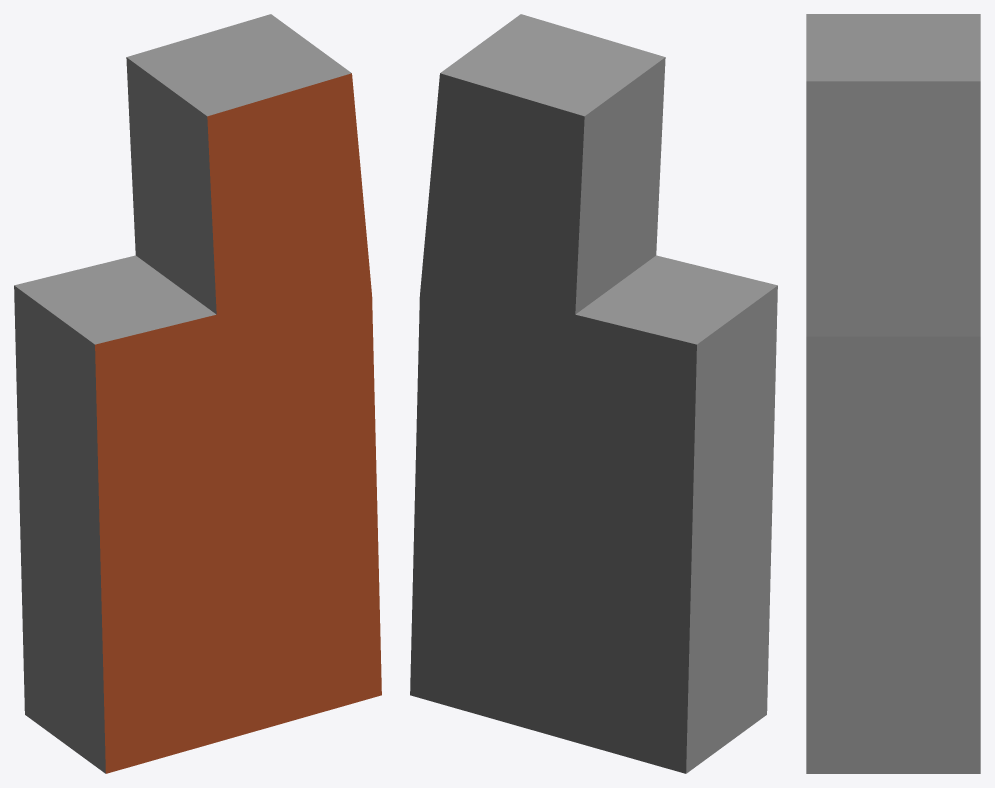
The model's file is construction_0644_assumed_A_Casa_h6m.obj.
3 views of the same model, side by side, from view 1: azimuth 30°, elevation 25°; view 2: azimuth 150°, elevation 25°; view 3: azimuth 270°, elevation 25° (orthographic). The views are drawn at different scales.
Visible parts, largest first — view 1: construction_0644_assumed_A_Casa; view 2: construction_0644_assumed_A_Casa; view 3: construction_0644_assumed_A_Casa.
Boxes of the visible parts, x1,y1,x2,y2 form: construction_0644_assumed_A_Casa: (14, 14, 381, 773); construction_0644_assumed_A_Casa: (410, 14, 777, 773); construction_0644_assumed_A_Casa: (806, 14, 980, 773).
Size of the model in its own units: 12.28 by 26.2 by 6.
